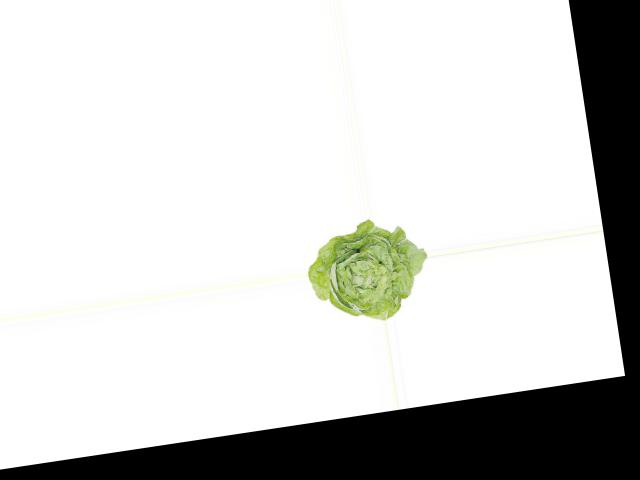lettuce: (300, 212, 431, 329)
